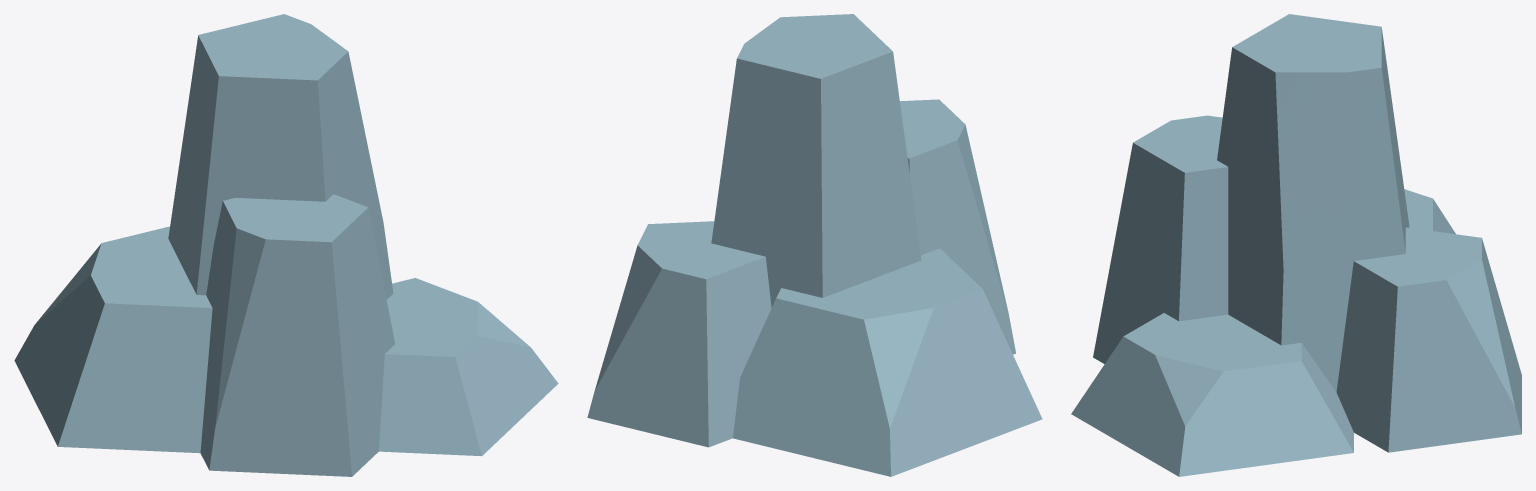
Rendered from rockLarge.dae.
3 views of the same model, side by side, from view 1: azimuth 30°, elevation 25°; view 2: azimuth 150°, elevation 25°; view 3: azimuth 270°, elevation 25° (orthographic). The views are drawn at different scales.
Parts seen in each view (by area): view 1: rockLarge; view 2: rockLarge; view 3: rockLarge.
Part boxes in pixels (x1,y1,x2,y2): rockLarge: [14, 14, 558, 476]; rockLarge: [587, 14, 1042, 476]; rockLarge: [1071, 14, 1521, 476].
Size of the model in its own units: 1.6 by 1.16 by 1.45.
